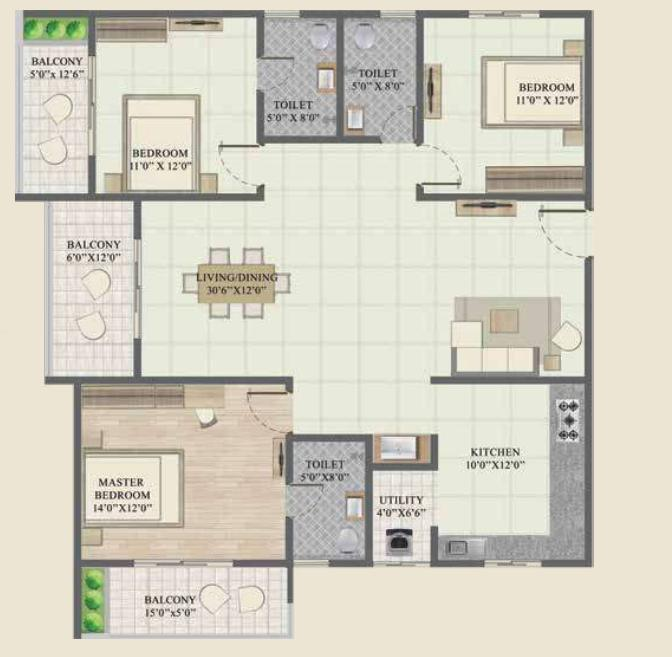Balcony: (81, 567, 288, 639), (52, 205, 137, 376), (23, 21, 92, 195)
Bed: (126, 95, 199, 195), (84, 454, 182, 523), (484, 59, 586, 125)
Bedroom: (78, 382, 288, 560), (94, 16, 261, 196), (422, 17, 589, 195)
Dining Room: (139, 147, 352, 432)
Dining table: (177, 248, 295, 323)
Kitchen: (437, 383, 585, 562)
Living Room: (343, 143, 588, 432)
Sofa: (452, 349, 537, 375), (453, 325, 482, 371)
Wardrobe: (485, 164, 586, 191), (81, 385, 185, 409), (94, 18, 166, 42)
commode: (338, 526, 360, 555)
door: (538, 213, 593, 260), (218, 146, 262, 189), (251, 391, 291, 435), (420, 145, 465, 183), (256, 55, 301, 90), (83, 59, 99, 156), (132, 556, 233, 571), (289, 483, 324, 519), (381, 107, 415, 140), (134, 242, 145, 336), (310, 23, 331, 50), (355, 24, 375, 50)
kitchen-slab: (549, 384, 588, 561), (438, 535, 585, 559)
sink: (447, 538, 487, 560), (380, 439, 418, 460), (345, 496, 363, 520), (346, 106, 364, 129), (318, 70, 335, 90)
stove: (557, 398, 578, 442)
toilet: (263, 16, 339, 139), (291, 440, 367, 562), (343, 16, 414, 138)
tv: (455, 200, 517, 216), (425, 67, 440, 116), (270, 438, 285, 475), (173, 21, 222, 31)
utility: (373, 472, 434, 562)
washing-machine: (387, 529, 413, 555)
